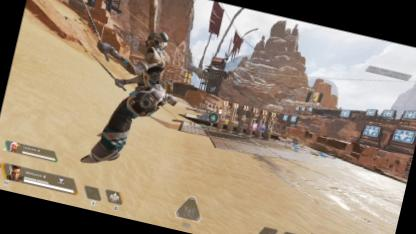Target: (76, 17, 186, 176)
